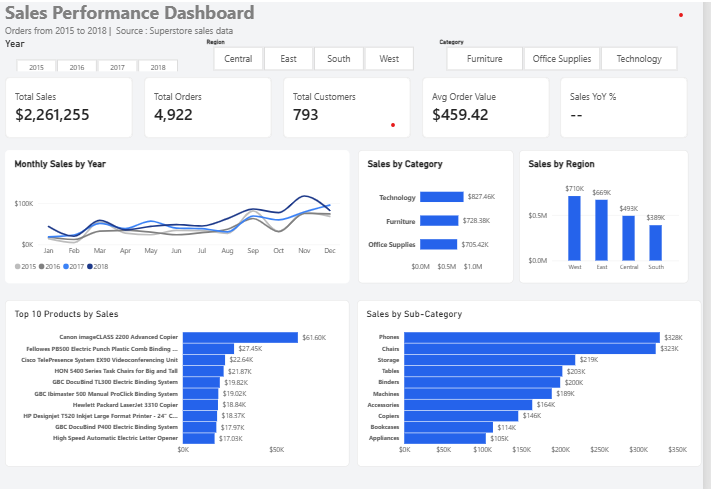

This screenshot's page, from the dashboard's own definition file:
{"tool":"powerbi","page":{"name":"Sales Overview","canvas":[1280,900],"ordinal":0},"visuals":[{"type":"cardVisual","fields":{"Data":["sales analysis dashboard.Total Sales Card"]},"box":[25,150,230,110],"z":0},{"type":"cardVisual","fields":{"Data":["sales analysis dashboard.Total Orders Card"]},"box":[275,150,230,110],"z":1000},{"type":"cardVisual","fields":{"Data":["sales analysis dashboard.Sales YoY % Card"]},"box":[1025,150,230,110],"z":2000},{"type":"cardVisual","fields":{"Data":["sales analysis dashboard.Total Customers"]},"box":[525,150,230,110],"z":3000},{"type":"cardVisual","fields":{"Data":["sales analysis dashboard.Avg Order Value"]},"box":[775,150,230,110],"z":4000},{"type":"slicer","title":"Year","fields":{"Values":["Calendar.year"]},"box":[25,80,330,60],"z":5000},{"type":"slicer","fields":{"Values":["sales analysis dashboard.Region"]},"box":[380,80,400,60],"z":6000},{"type":"slicer","fields":{"Values":["sales analysis dashboard.Category"]},"box":[800,80,455,60],"z":7000},{"type":"lineChart","title":"Monthly Sales by Year","fields":{"Category":["Calendar.Month"],"Series":["Calendar.year"],"Y":["sales analysis dashboard.Total Sales"]},"box":[25,280,620,240],"z":8000},{"type":"clusteredBarChart","title":"Sales by Category","fields":{"Category":["sales analysis dashboard.Category"],"Y":["sales analysis dashboard.Total Sales"]},"box":[660,280,280,240],"z":9000},{"type":"clusteredColumnChart","title":"Sales by Region","fields":{"Category":["sales analysis dashboard.Region"],"Y":["sales analysis dashboard.Total Sales"]},"box":[950,280,305,240],"z":10000},{"type":"clusteredBarChart","title":"Top 10 Products by Sales","fields":{"Category":["sales analysis dashboard.Product Name"],"Y":["sales analysis dashboard.Total Sales"]},"box":[25,550,620,300],"z":11000},{"type":"textbox","box":[25,10,620,50],"z":12000},{"type":"textbox","box":[25,55,700,25],"z":13000},{"type":"clusteredBarChart","title":"Sales by Sub-Category","fields":{"Category":["sales analysis dashboard.Sub-Category"],"Y":["sales analysis dashboard.Total Sales"]},"box":[658.8,550,620,300],"z":14000}]}

Visuals, with their boxes in screenshot pixels (x1, y1, x2, y2), scaled from the page's 1280x900 canvas onto the 711x489 screenshot:
cardVisual - sales analysis dashboard.Total Sales Card: 14,82,142,141
cardVisual - sales analysis dashboard.Total Orders Card: 153,82,281,141
cardVisual - sales analysis dashboard.Sales YoY % Card: 569,82,697,141
cardVisual - sales analysis dashboard.Total Customers: 292,82,419,141
cardVisual - sales analysis dashboard.Avg Order Value: 430,82,558,141
"Year" slicer: 14,43,197,76
slicer - sales analysis dashboard.Region: 211,43,433,76
slicer - sales analysis dashboard.Category: 444,43,697,76
"Monthly Sales by Year" lineChart: 14,152,358,283
"Sales by Category" clusteredBarChart: 367,152,522,283
"Sales by Region" clusteredColumnChart: 528,152,697,283
"Top 10 Products by Sales" clusteredBarChart: 14,299,358,462
textbox: 14,5,358,33
textbox: 14,30,403,43
"Sales by Sub-Category" clusteredBarChart: 366,299,710,462
